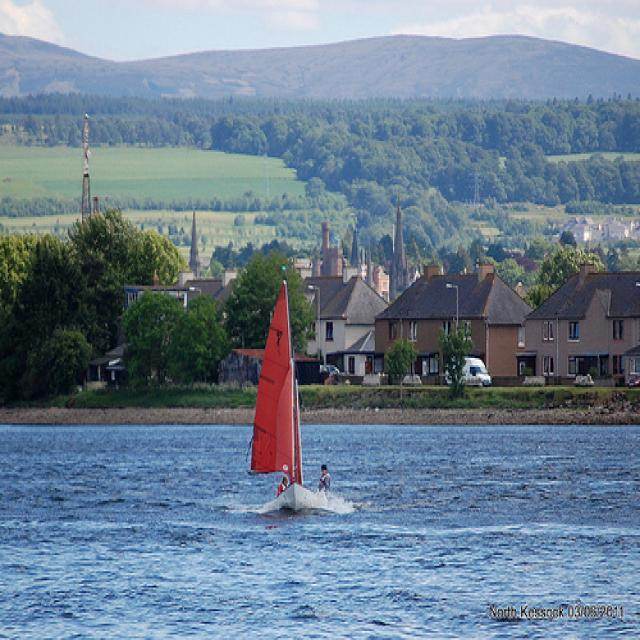Ship: (233, 268, 358, 524)
